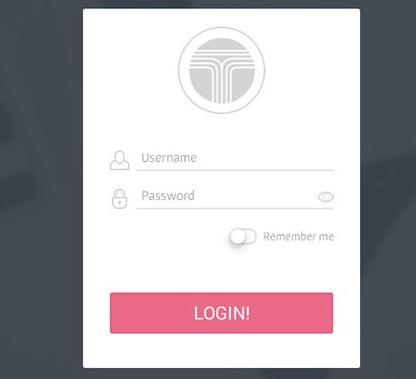button: (107, 289, 336, 336)
field_line: (135, 186, 336, 212), (135, 148, 334, 173)
